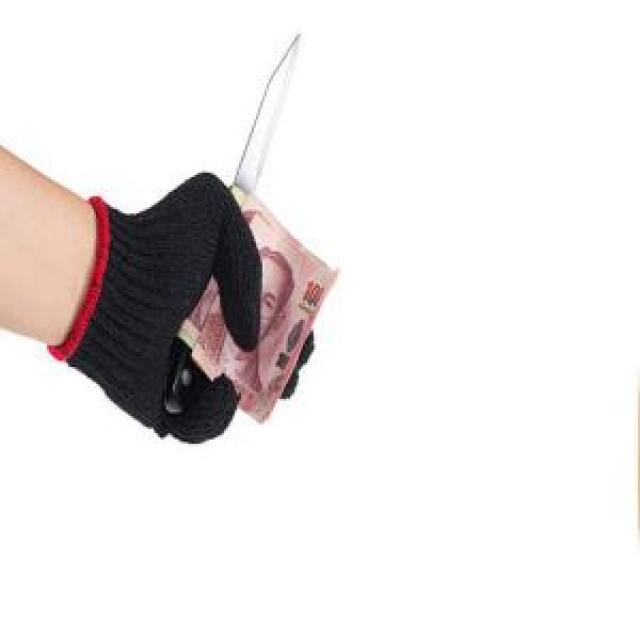knife: (168, 30, 302, 428)
